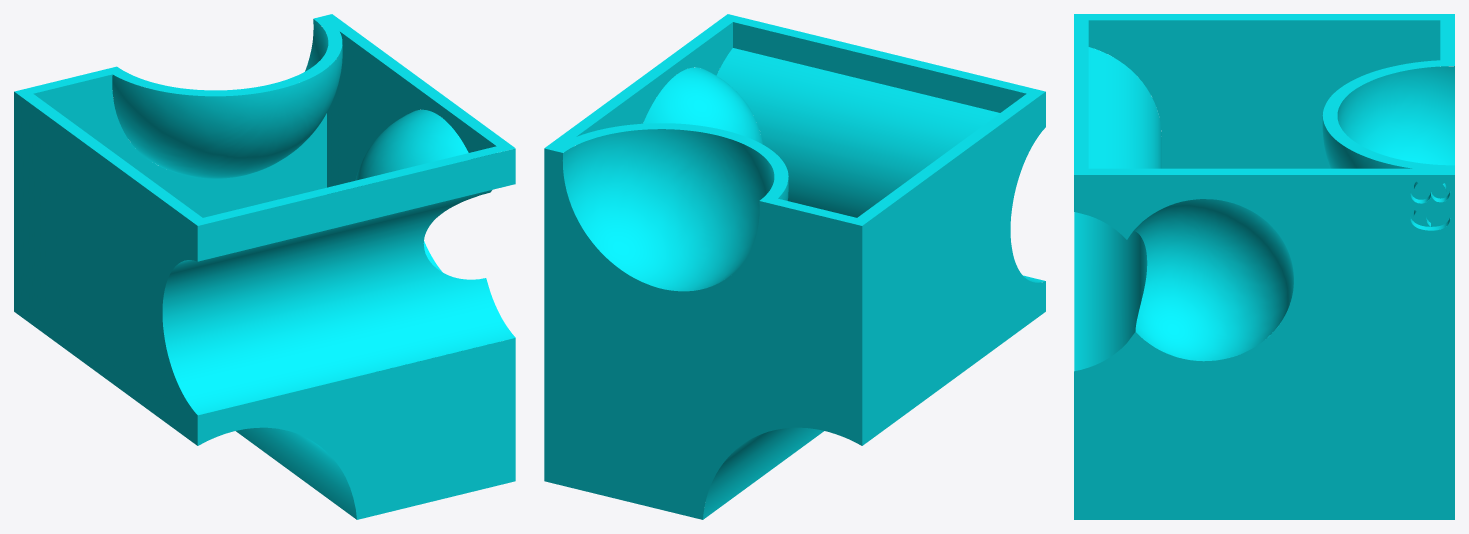
The picture shows the model from 3 angles, left to right: view 1: azimuth 30°, elevation 25°; view 2: azimuth 150°, elevation 25°; view 3: azimuth 270°, elevation 25°; orthographic projection. The views are drawn at different scales.
Visible parts, largest first — view 1: 70_vars_w-txt; view 2: 70_vars_w-txt; view 3: 70_vars_w-txt.
Boxes of the visible parts, x1=… form: 70_vars_w-txt: x1=14, y1=14, x2=515, y2=519; 70_vars_w-txt: x1=544, y1=14, x2=1045, y2=519; 70_vars_w-txt: x1=1074, y1=14, x2=1454, y2=519.
Size of the model in its own units: 0.042 by 0.042 by 0.042.
